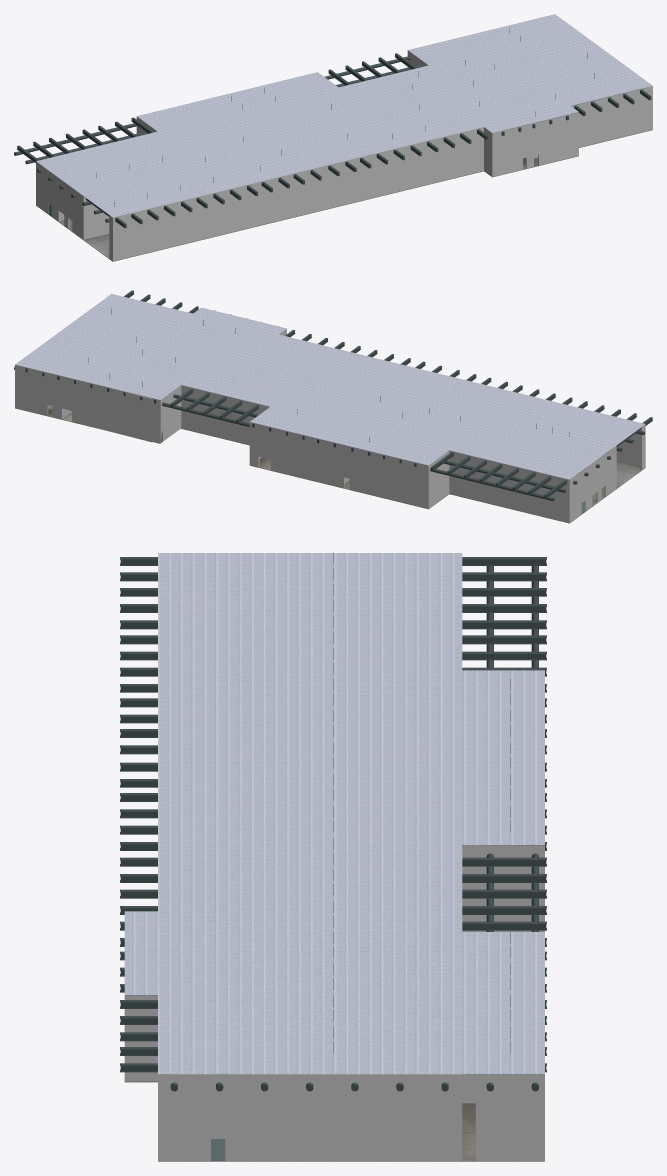
Rendered from interior.FBX.
3 views of the same model, one above another, from view 1: azimuth 30°, elevation 25°; view 2: azimuth 150°, elevation 25°; view 3: azimuth 270°, elevation 25° (orthographic). The views are drawn at different scales.
Visible parts, largest first — view 1: roof, Shape1, floor, Circle017, Circle016; view 2: roof, Shape1, floor, Circle017, Circle016; view 3: roof, Shape1, floor, Box053, Box057, Box072, Box074, Box056, Box058, Box004, Box054, Box055 (+3 smaller).
Part boxes in pixels (x1,y1,x2,y2): roof: (36,14,652,217); Shape1: (36,50,652,261); floor: (36,129,652,261); Circle017: (14,56,410,155); Circle016: (25,64,422,164); roof: (15,294,645,479); Shape1: (15,328,645,522); floor: (15,405,644,523); Circle017: (14,366,554,501); Circle016: (173,394,565,492); roof: (124,553,544,1074); Shape1: (124,846,544,1160); floor: (125,1081,544,1161); Box053: (120,572,546,581); Box057: (120,651,546,660); Box072: (120,857,546,866); Box074: (120,889,546,898); Box056: (120,620,546,629); Box058: (120,635,546,644); Box004: (120,557,546,565); Box054: (120,588,546,596); Box055: (120,604,546,612).
Bounding box in the file's own units: 5377 × 479 × 1844.
